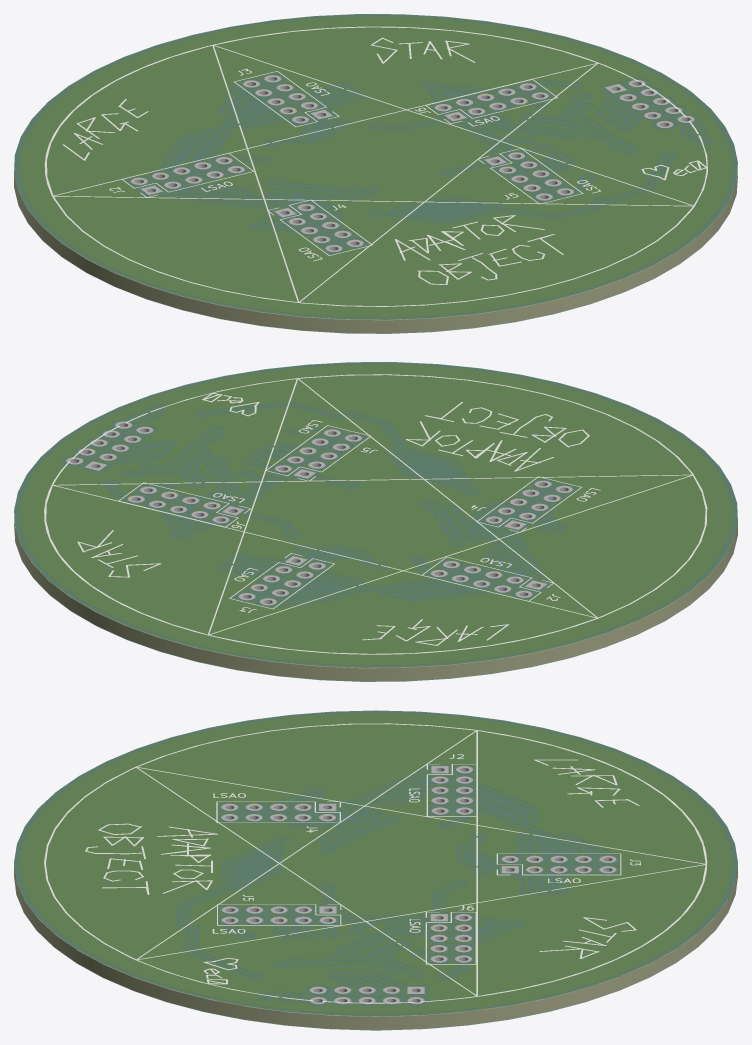
The model's file is mult-lsao-port-multiplier-ozseccon-2019.glb.
3 views of the same model, one above another, from view 1: azimuth 30°, elevation 25°; view 2: azimuth 150°, elevation 25°; view 3: azimuth 270°, elevation 25° (orthographic).
Parts seen in each view (by area): view 1: =>[0:1:1:7], =>[0:1:1:2], =>[0:1:1:9], =>[0:1:1:5]; view 2: =>[0:1:1:7], =>[0:1:1:2], =>[0:1:1:9], =>[0:1:1:5]; view 3: =>[0:1:1:7], =>[0:1:1:2], =>[0:1:1:9], =>[0:1:1:5].
Part boxes in pixels (x1,y1,x2,y2): =>[0:1:1:7]: (14,14,737,333); =>[0:1:1:2]: (20,17,731,317); =>[0:1:1:9]: (14,15,737,333); =>[0:1:1:5]: (44,26,707,306); =>[0:1:1:7]: (14,362,737,681); =>[0:1:1:2]: (20,365,731,665); =>[0:1:1:9]: (14,363,737,681); =>[0:1:1:5]: (44,374,707,654); =>[0:1:1:7]: (14,710,737,1030); =>[0:1:1:2]: (20,713,731,1013); =>[0:1:1:9]: (14,711,737,1029); =>[0:1:1:5]: (44,723,707,1003).
Bounding box in the file's own units: 0.0752 × 0.00166 × 0.0752.
Materials: 4 (4 with a texture image).
